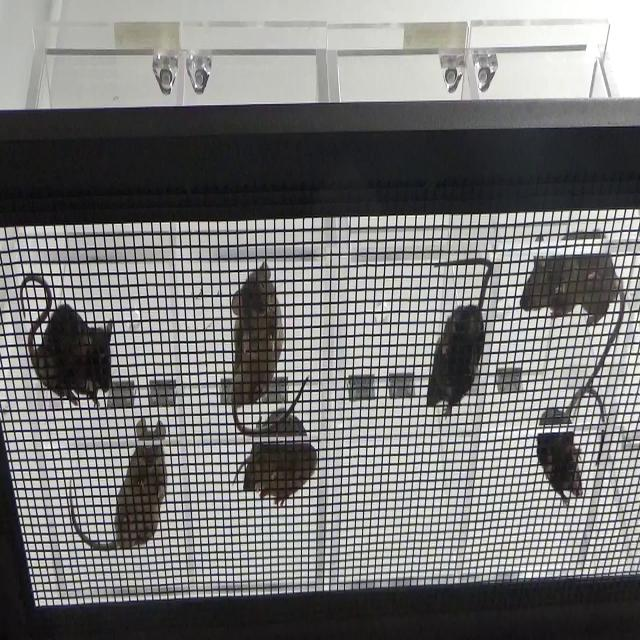scratch: (14, 271, 120, 408)
